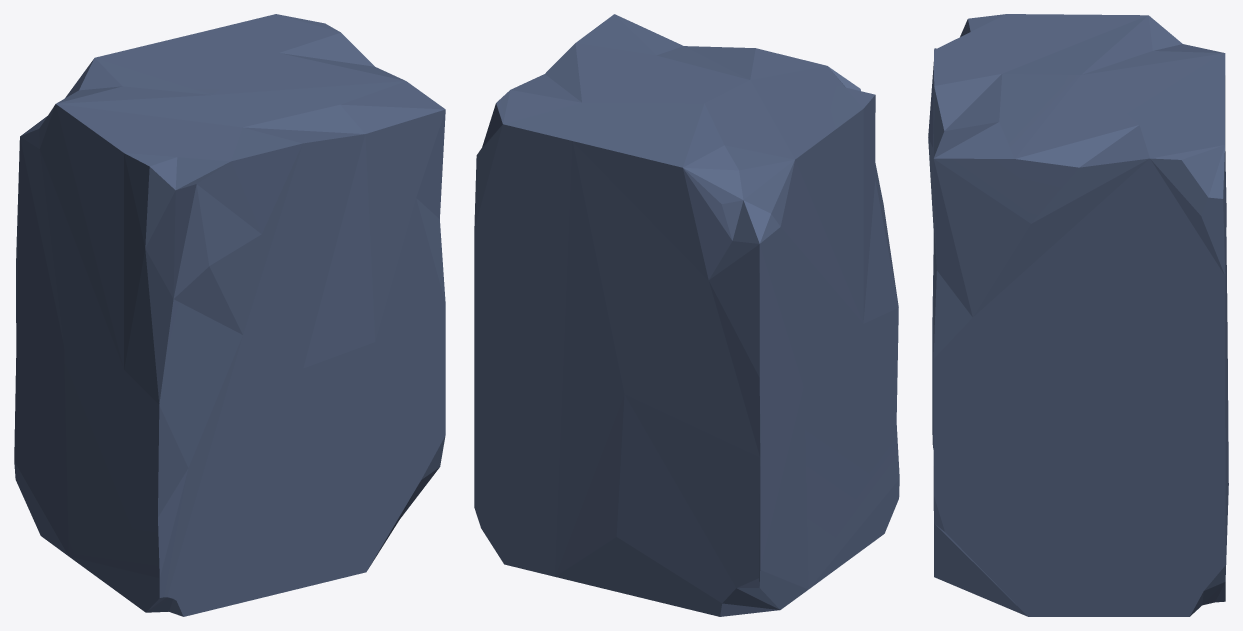
File: BigRock05.fbx
3 renders of one model, left to right at view 1: azimuth 30°, elevation 25°; view 2: azimuth 150°, elevation 25°; view 3: azimuth 270°, elevation 25°, orthographic. The views are drawn at different scales.
Parts seen in each view (by area): view 1: BigRock_05; view 2: BigRock_05; view 3: BigRock_05.
Part boxes in pixels (<box>): BigRock_05: <box>14,14,445,616</box>; BigRock_05: <box>474,14,899,616</box>; BigRock_05: <box>928,14,1228,616</box>.
Bounding box in the file's own units: 301 × 440 × 260.
